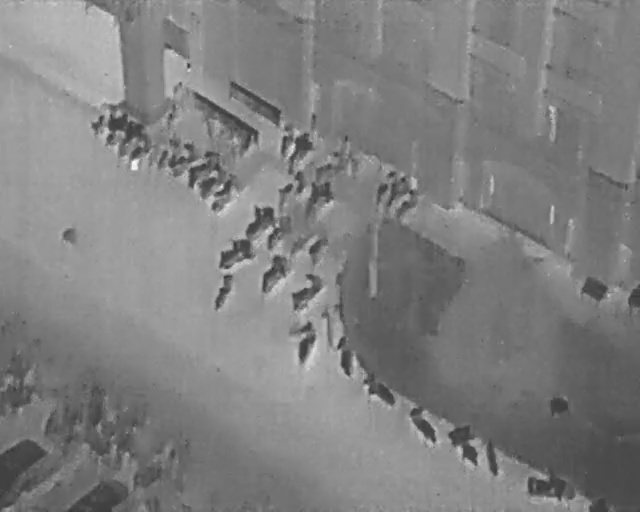Bicycle: (292, 173, 342, 229), (178, 144, 226, 193), (235, 196, 282, 245), (444, 419, 487, 472), (282, 267, 327, 316), (356, 367, 403, 413), (251, 251, 295, 300), (269, 166, 313, 211), (279, 128, 318, 178), (190, 160, 233, 204), (301, 222, 342, 267), (203, 172, 242, 216), (94, 106, 134, 147), (148, 130, 186, 173), (259, 211, 297, 254), (212, 234, 256, 270), (405, 403, 441, 447), (164, 139, 203, 179), (526, 471, 576, 502), (109, 115, 144, 159), (121, 129, 156, 173), (290, 316, 320, 367), (390, 182, 426, 224), (381, 171, 414, 210), (369, 165, 401, 205), (210, 270, 237, 313), (86, 103, 118, 137), (272, 120, 300, 158), (483, 436, 502, 480), (336, 334, 354, 379)
